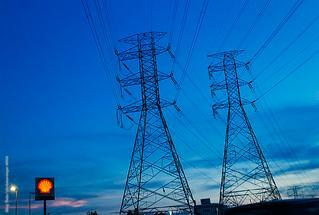power_tower: (110, 26, 197, 215), (205, 47, 284, 208)
